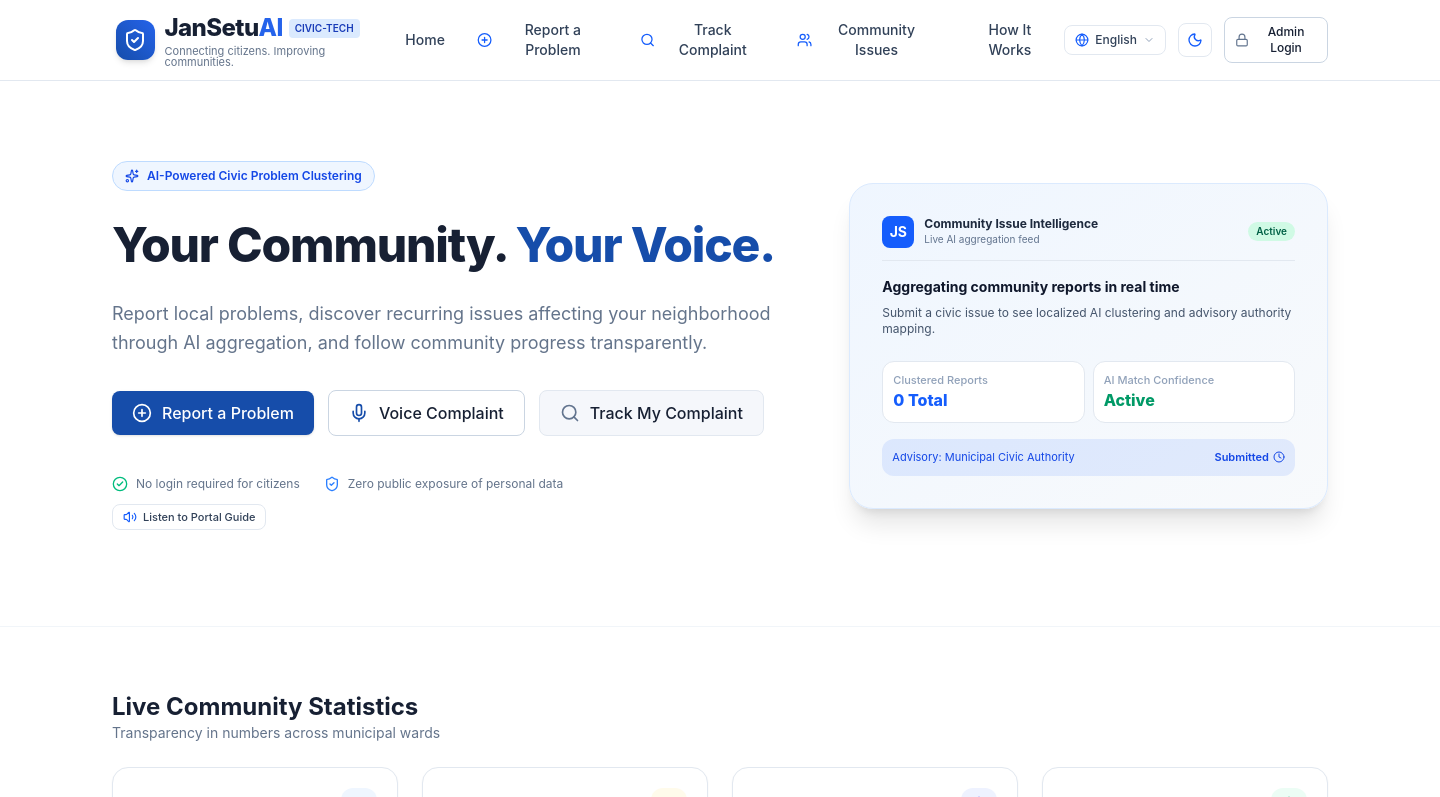
Test case: JanSetu AI Integrated Frontend Test Suite › 6. Complaint submission validates required fields
This screenshot has width=1440, height=797.
Click the 1st button "Report a Problem".
click(542, 40)  # box [465,12,620,68]
(page scrolled)
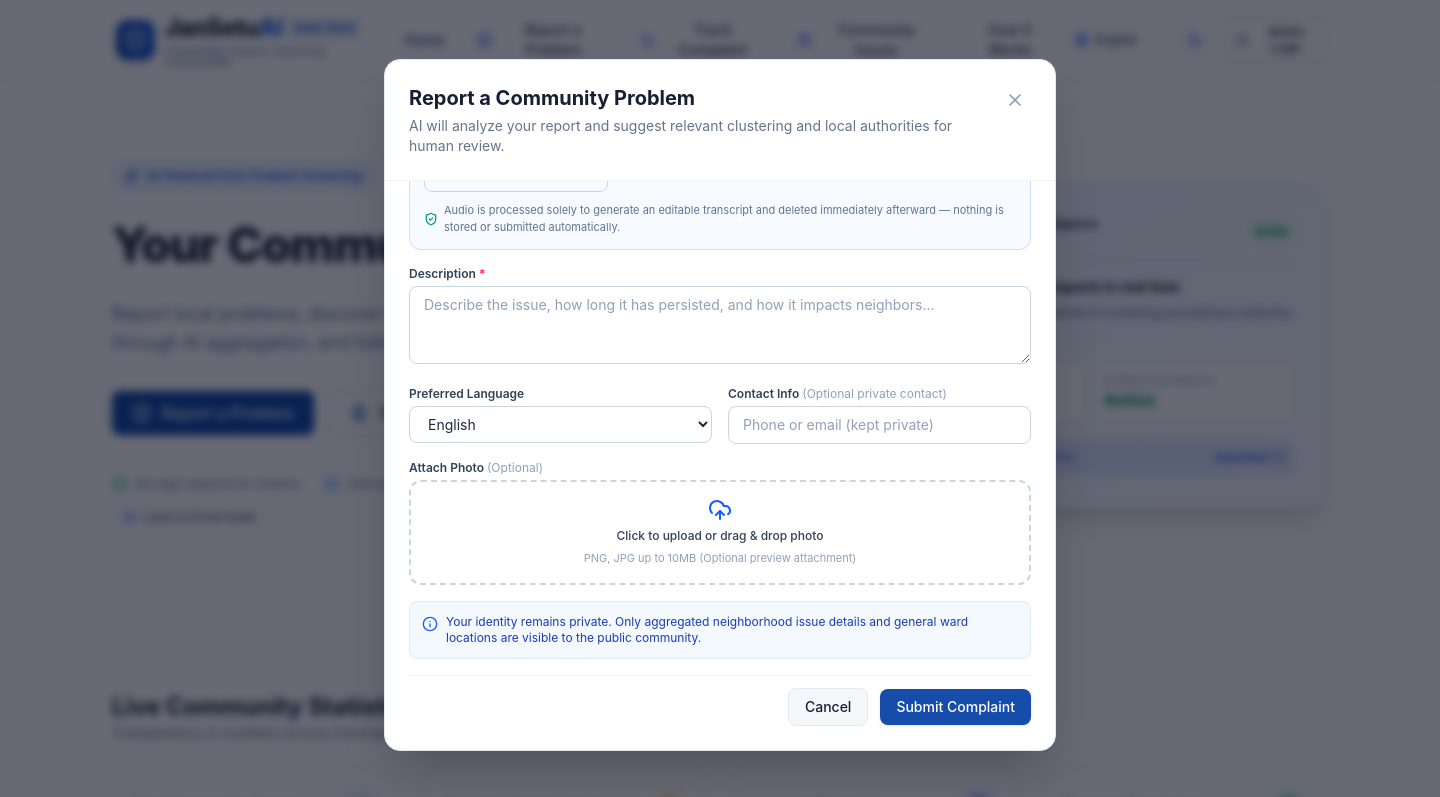
Click the button "Submit Complaint".
click(956, 707)  # box [880,689,1031,725]
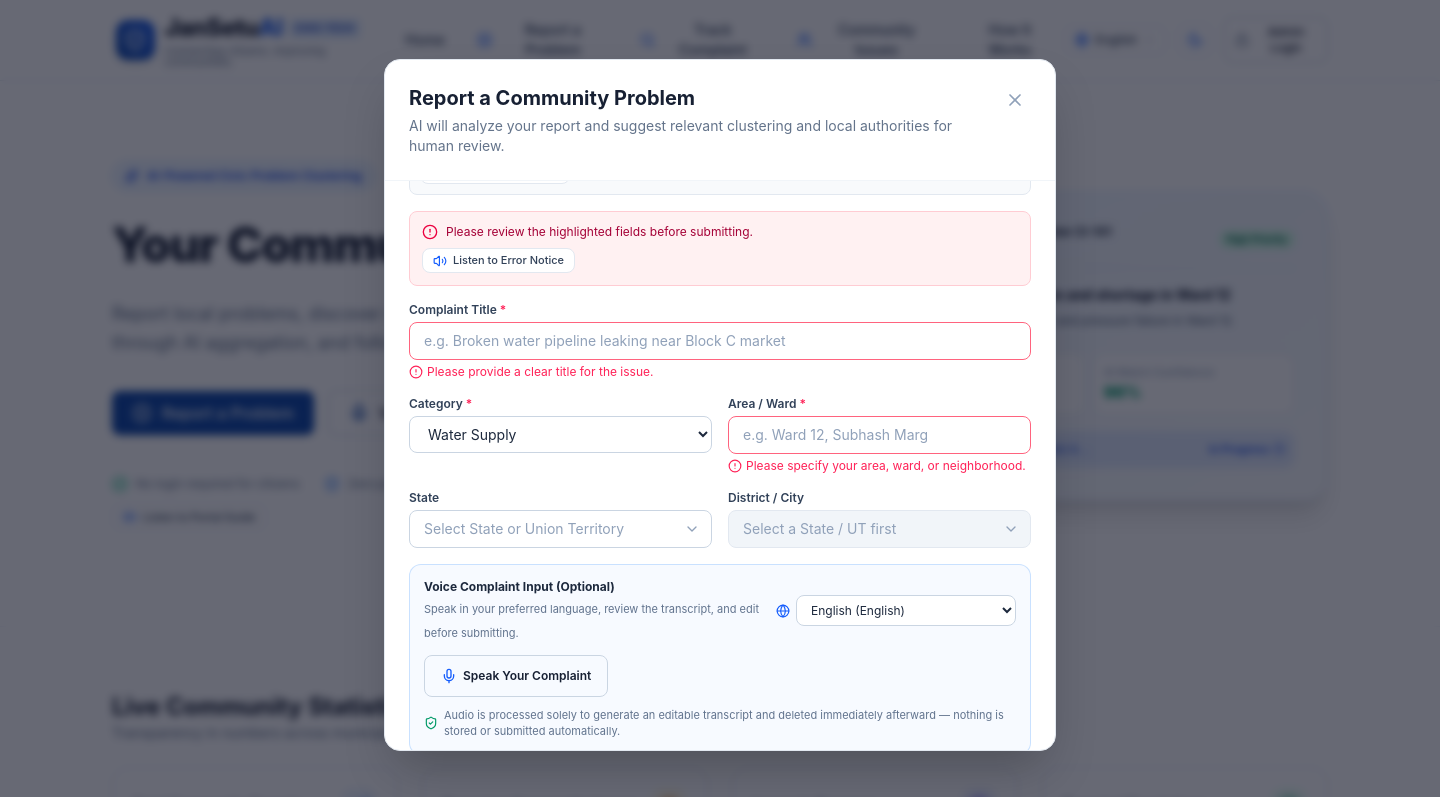
Check: the text "Please provide a clear title for the issue." is shown, box [409,364,654,379]
Check: the text "Please specify your area, ward, or neighborhood." is shown, box [728,458,1031,474]
